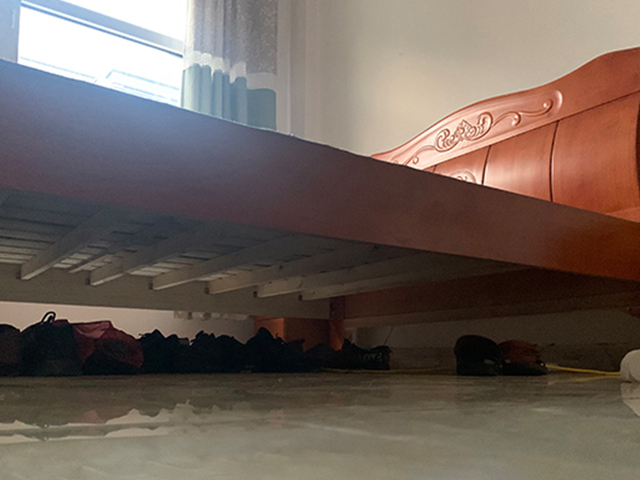bed: (1, 46, 640, 351)
wire: (322, 362, 621, 377)
